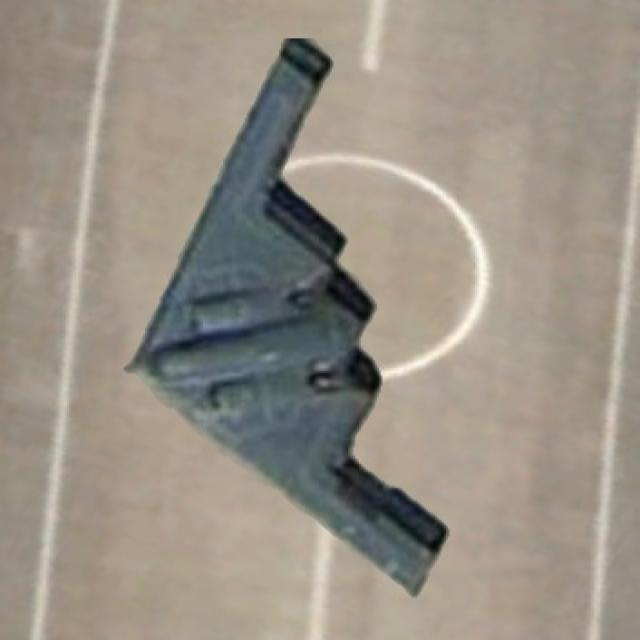B-2_TopDown: (118, 32, 488, 598)
